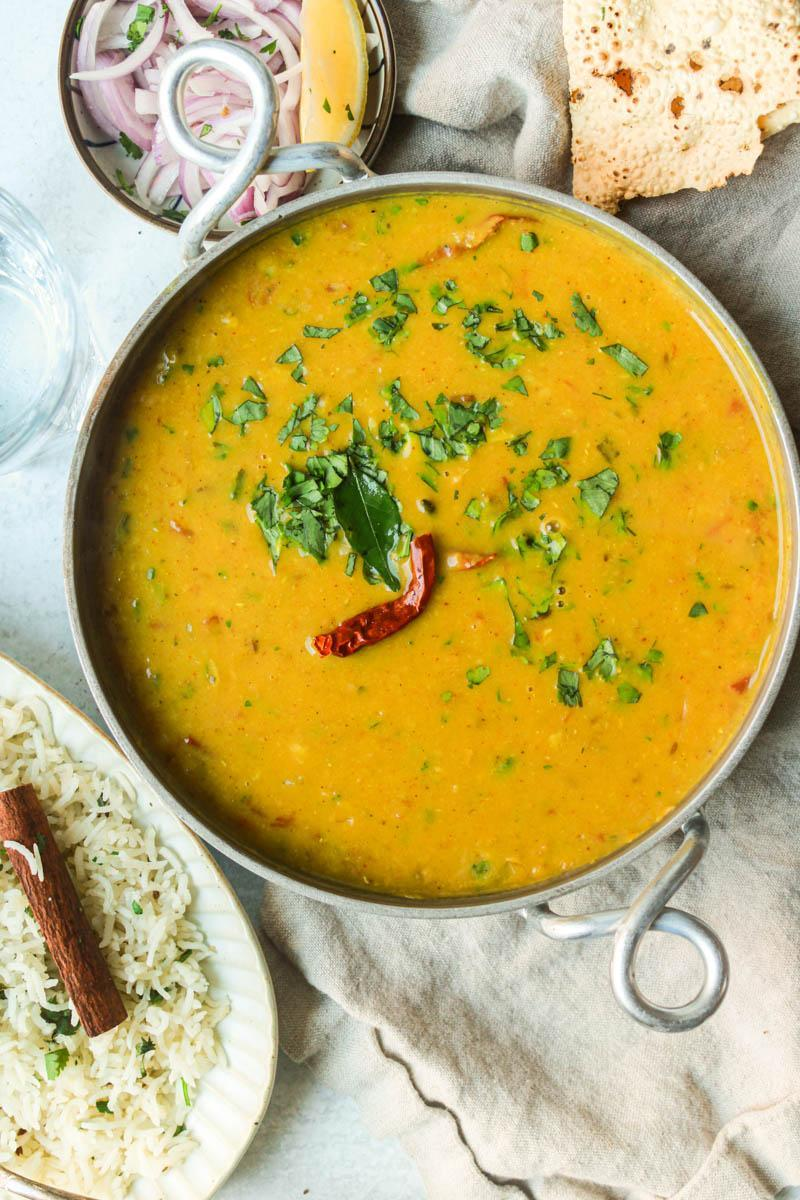dal: (102, 158, 792, 920)
rice: (0, 678, 218, 1200)
